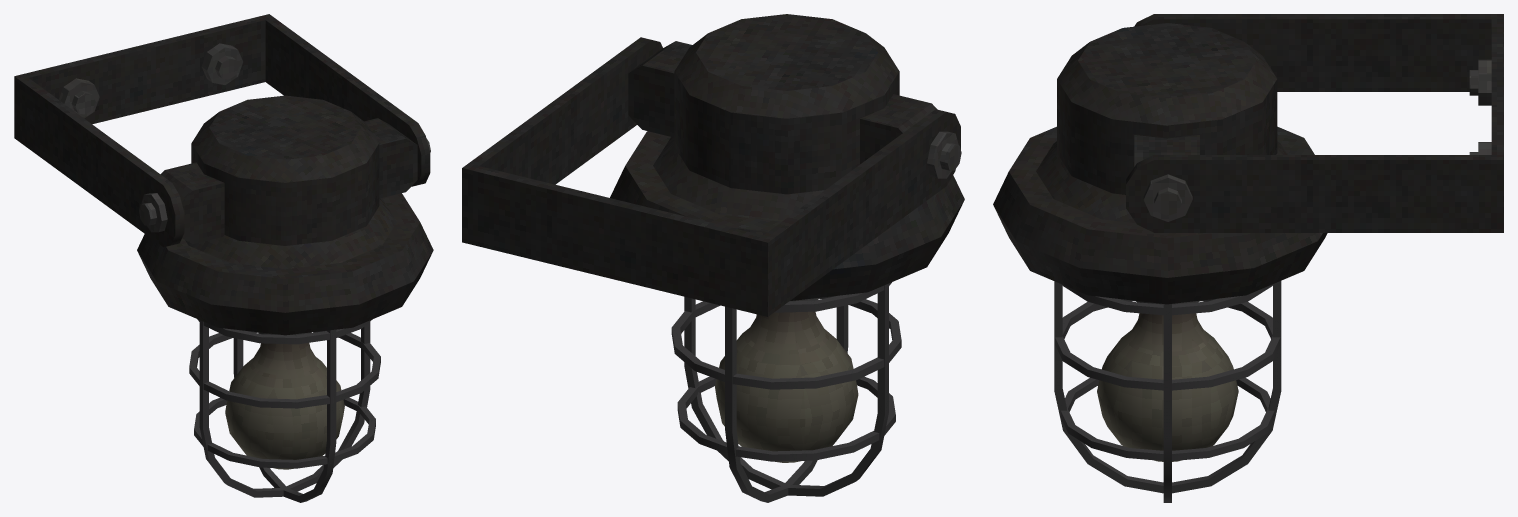
Rendered from lamp_mx_1_a_off.glb.
3 views of the same model, side by side, from view 1: azimuth 30°, elevation 25°; view 2: azimuth 150°, elevation 25°; view 3: azimuth 270°, elevation 25° (orthographic). The views are drawn at different scales.
Visible parts, largest first — view 1: lamp_mx_1_a_off; view 2: lamp_mx_1_a_off; view 3: lamp_mx_1_a_off.
Part boxes in pixels (bbox=[...]): lamp_mx_1_a_off: bbox=[14, 14, 433, 502]; lamp_mx_1_a_off: bbox=[462, 14, 964, 502]; lamp_mx_1_a_off: bbox=[993, 14, 1503, 502].
Size of the model in its own units: 0.1876 by 0.2352 by 0.2522.
3 materials, 3 textured.
